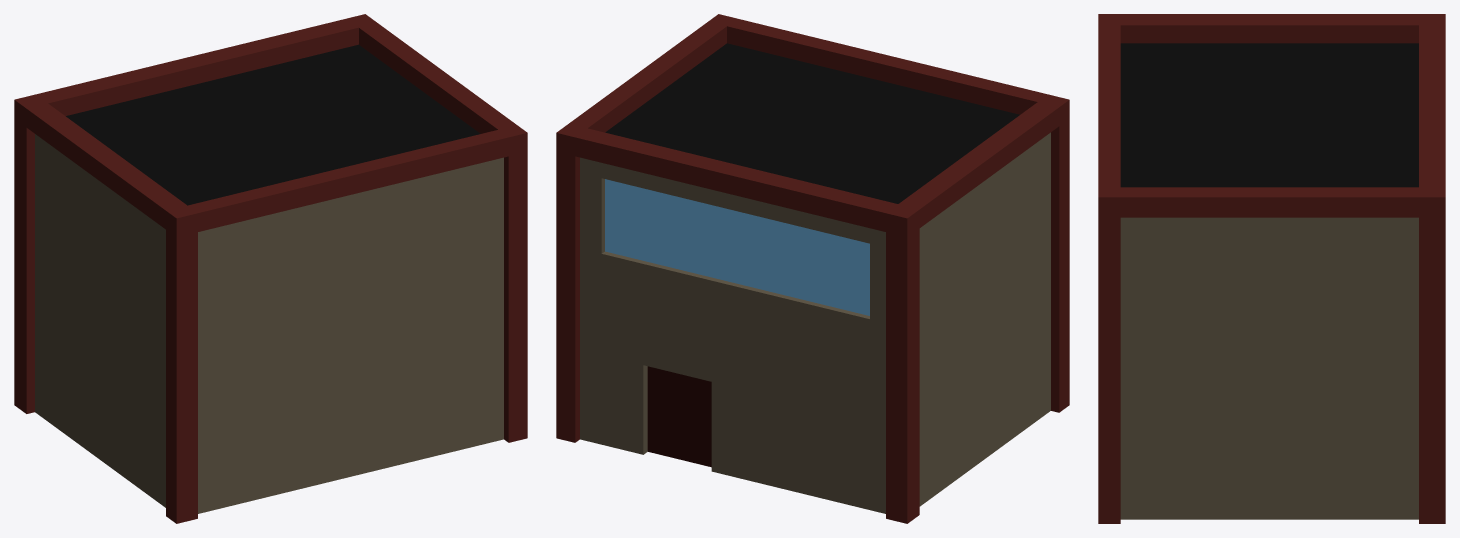
File: BuildingVer11.fbx
The picture shows the model from 3 angles, left to right: view 1: azimuth 30°, elevation 25°; view 2: azimuth 150°, elevation 25°; view 3: azimuth 270°, elevation 25°; orthographic projection. The views are drawn at different scales.
Parts seen in each view (by area): view 1: Box004; view 2: Box004; view 3: Box004.
Part boxes in pixels (x1,y1,x2,y2): Box004: [14, 14, 527, 523]; Box004: [556, 14, 1069, 523]; Box004: [1098, 14, 1445, 523].
Size of the model in its own units: 666 by 554 by 534.
